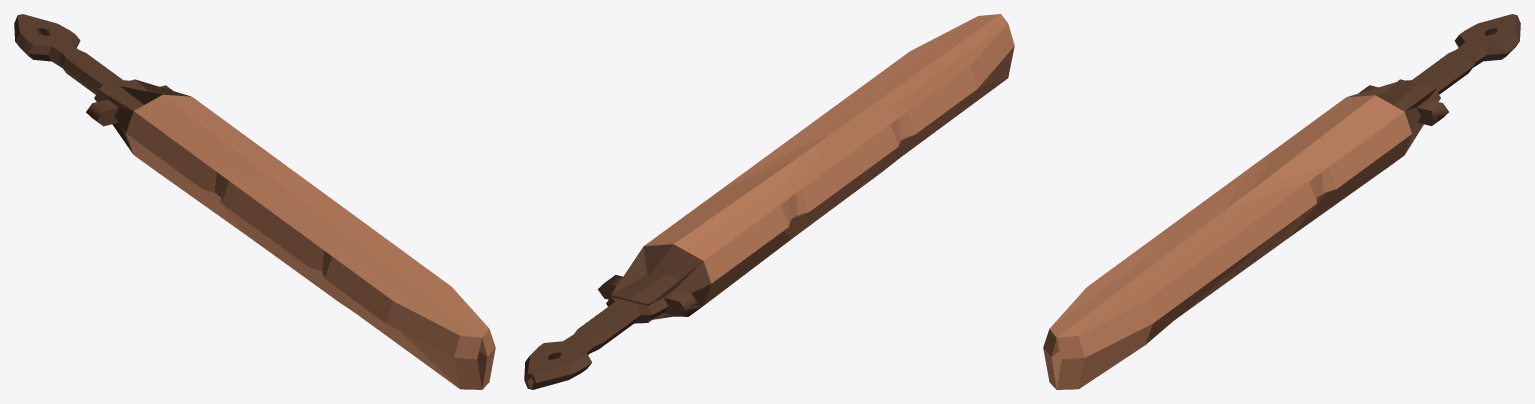
File: CLUB.fbx
The picture shows the model from 3 angles, left to right: view 1: azimuth 30°, elevation 25°; view 2: azimuth 150°, elevation 25°; view 3: azimuth 330°, elevation 25°; orthographic projection. The views are drawn at different scales.
Parts seen in each view (by area): view 1: Plane; view 2: Plane; view 3: Plane.
Boxes of the visible parts, box(x1,y1,x2,y2) form: Plane: box(14, 14, 495, 389); Plane: box(524, 14, 1014, 389); Plane: box(1043, 14, 1520, 389).
Bounding box in the file's own units: 30.26 × 23.7 × 280.
